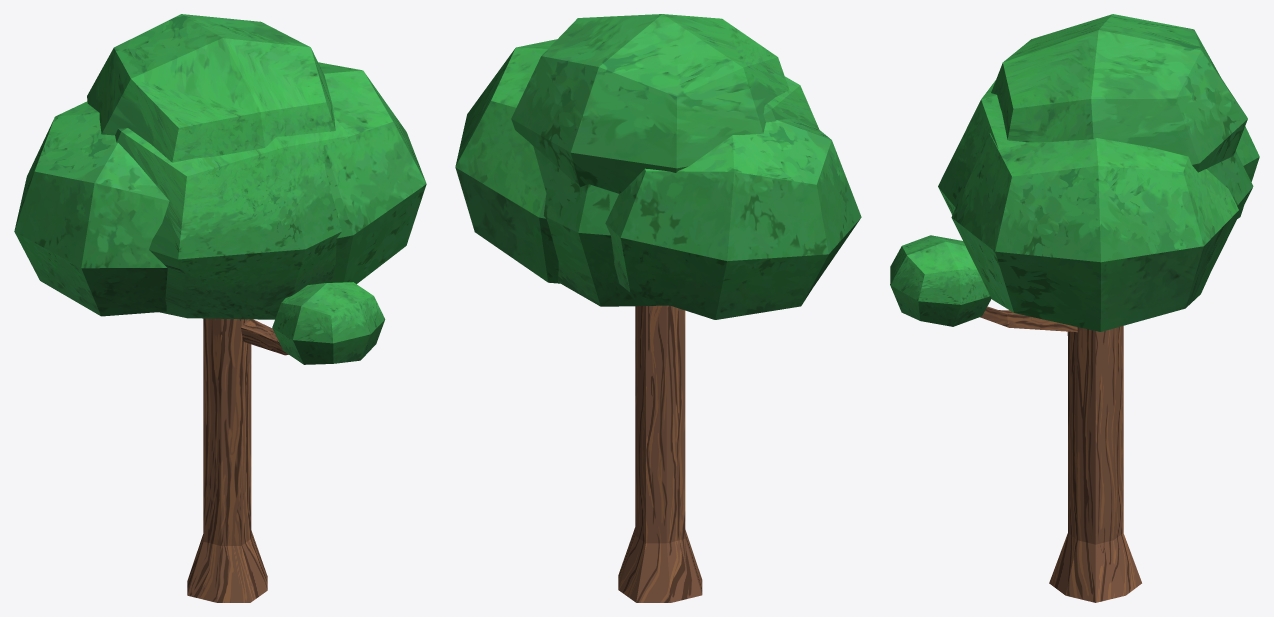
File: arvrinha_modelo_1.fbx
The picture shows the model from 3 angles, left to right: view 1: azimuth 30°, elevation 25°; view 2: azimuth 150°, elevation 25°; view 3: azimuth 270°, elevation 25°; orthographic projection. The views are drawn at different scales.
Visible parts, largest first — view 1: Cube.001, Cube.004, Cube.003, Cube, Cube.002, Cube.005; view 2: Cube.003, Cube.004, Cube, Cube.002, Cube.001; view 3: Cube.002, Cube.004, Cube, Cube.005, Cube.001, Cube.003.
Part boxes in pixels (<box>): Cube.001: <box>115,120,350,319</box>; Cube.004: <box>87,14,335,162</box>; Cube.003: <box>14,101,169,316</box>; Cube: <box>187,318,288,602</box>; Cube.002: <box>318,62,426,283</box>; Cube.005: <box>272,282,385,364</box>; Cube.003: <box>605,119,861,319</box>; Cube.004: <box>511,14,789,193</box>; Cube: <box>618,305,702,602</box>; Cube.002: <box>455,39,559,283</box>; Cube.001: <box>533,76,819,306</box>; Cube.002: <box>951,133,1238,331</box>; Cube.004: <box>991,14,1247,172</box>; Cube: <box>980,306,1141,602</box>; Cube.005: <box>890,235,991,326</box>; Cube.001: <box>938,80,1253,268</box>; Cube.003: <box>1236,126,1259,218</box>.
Size of the model in its own units: 567 by 803 by 488.
